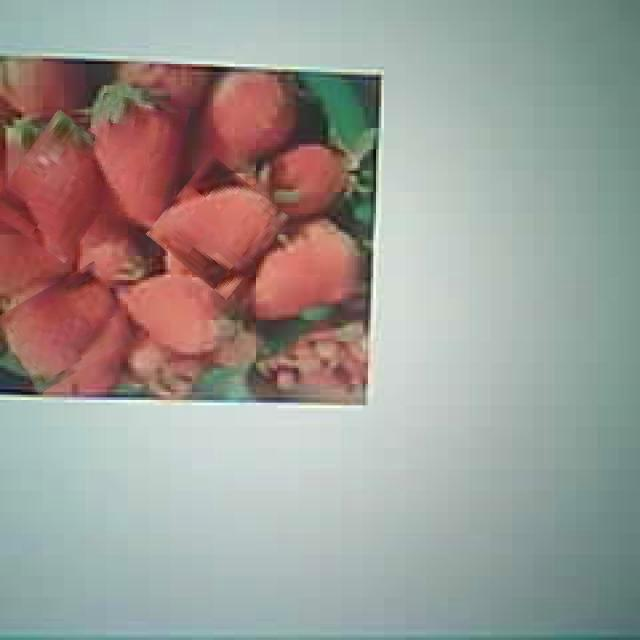strawberry: (0, 117, 121, 255), (157, 164, 282, 290), (2, 272, 130, 382), (87, 96, 185, 221)
